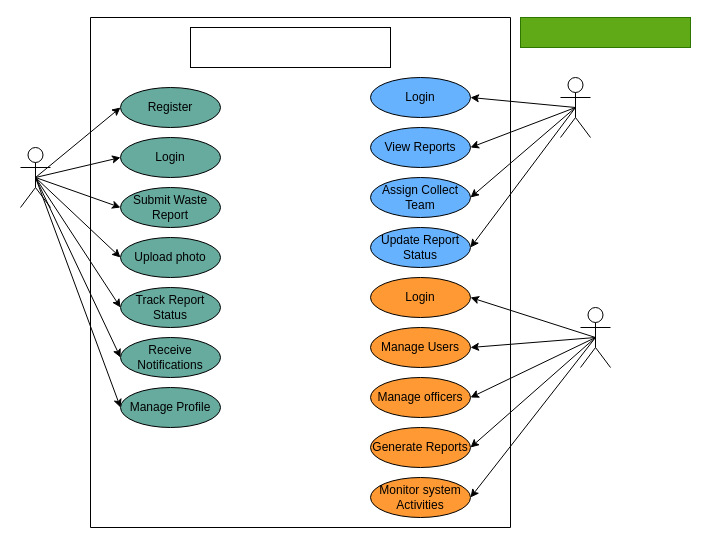
Image size: 708x545. Some labels were removed from this diagram. Here are the shapes that lost their labels. From the top down, the centre of each, then its label:
At point (290, 47): "Community Waste Management System".
At point (605, 32): "Use Case Diagram".
At point (575, 107): "Waste Collection officer".
At point (35, 177): "Citizen".
At point (595, 337): "Administrator".
